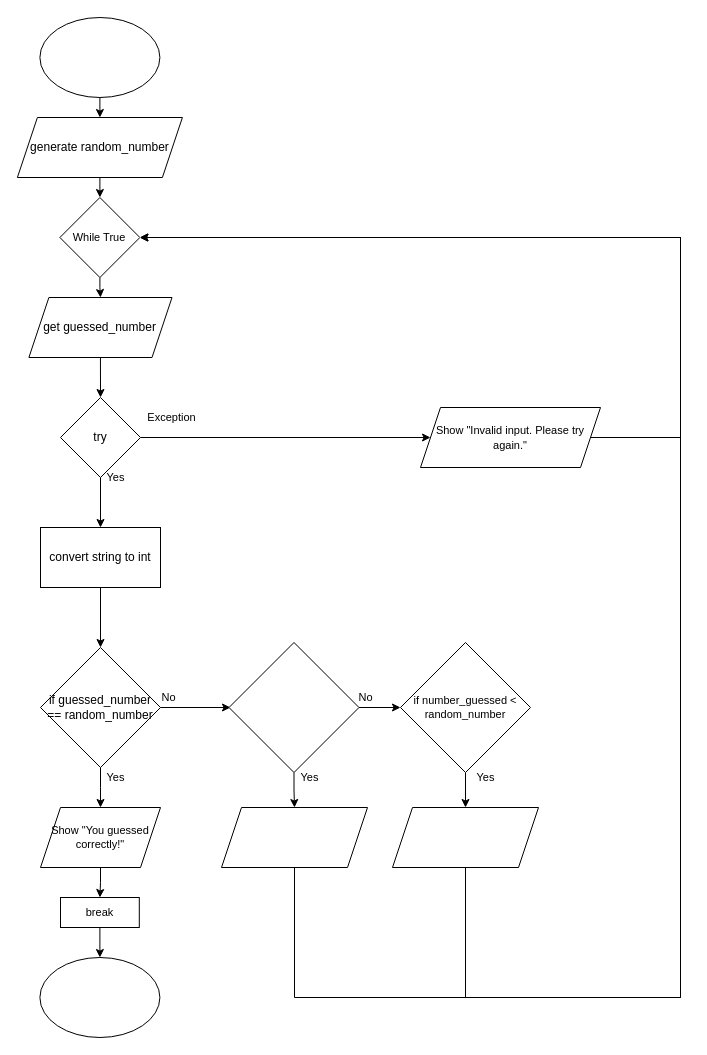
Some shapes in this 707 by 1055 pixel diagram are drawn without their labels. The shapes that lost their labels are listed below. From the top down, each one's centre as x and y in pixels, then its label:
(x=99, y=57): Start
(x=293, y=707): if number_guessed > random_number
(x=294, y=837): Show "That number is too high, guess lower."
(x=465, y=837): Show "That number is too low, guess higher."
(x=99, y=997): Stop
